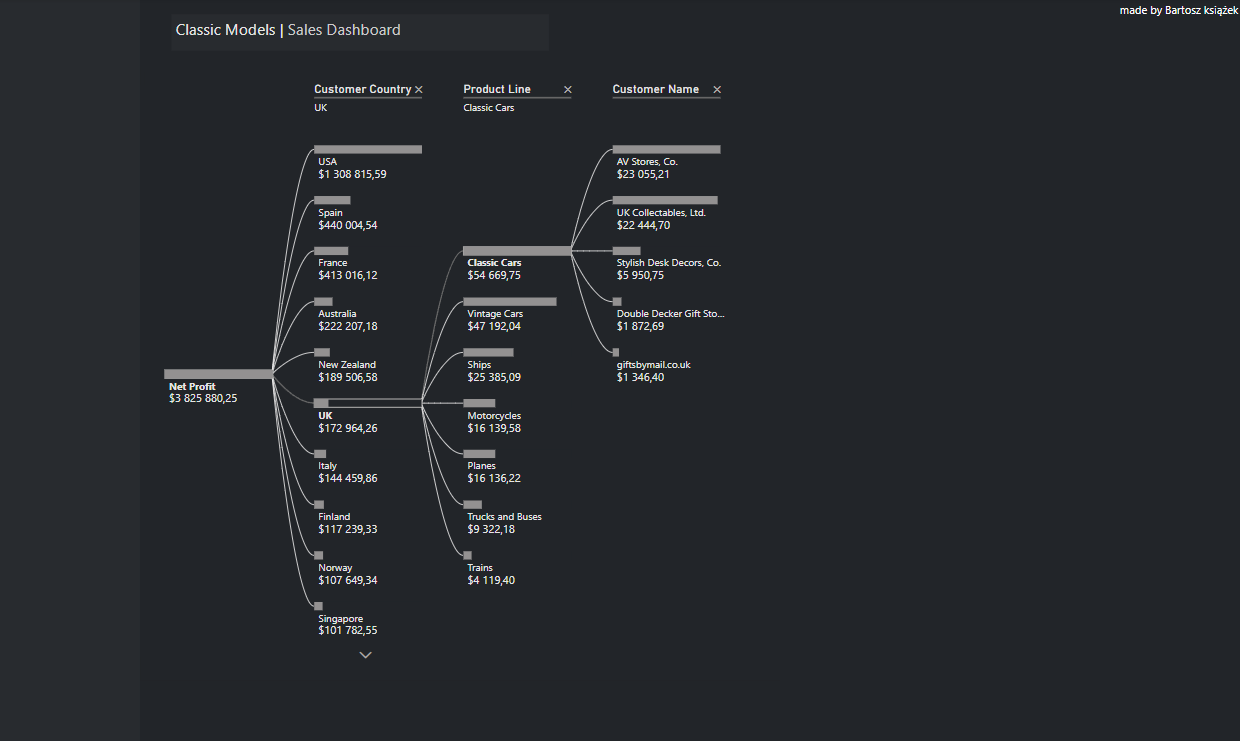

The page's visual inventory and layout, read from the dashboard file:
{"tool":"powerbi","page":{"name":"Sales Overview - Page 2","canvas":[1500,900],"ordinal":1},"visuals":[{"type":"shape","box":[0,0,170,900],"z":0},{"type":"decompositionTreeVisual","fields":{"Analyze":["classicmodels sales_data_for_power_bi.Net Profit"],"ExplainBy":["classicmodels sales_data_for_power_bi.customer_country","classicmodels sales_data_for_power_bi.productLine","classicmodels sales_data_for_power_bi.customerName"]},"box":[170,83.8,771.2,738.8],"z":1000},{"type":"textbox","box":[208.8,20,455,43.8],"z":2000},{"type":"textbox","box":[1311.6,0,188.4,33.2],"z":2001}]}

Visuals, with their boxes in screenshot pixels (x1, y1, x2, y2), scaled from the page's 1500x900 canvas onto the 1240x741 screenshot:
shape: box(0, 0, 141, 740)
decompositionTreeVisual - classicmodels sales_data_for_power_bi.Net Profit x classicmodels sales_data_for_power_bi.customer_country: box(141, 69, 778, 677)
textbox: box(173, 16, 549, 53)
textbox: box(1084, 0, 1239, 27)
